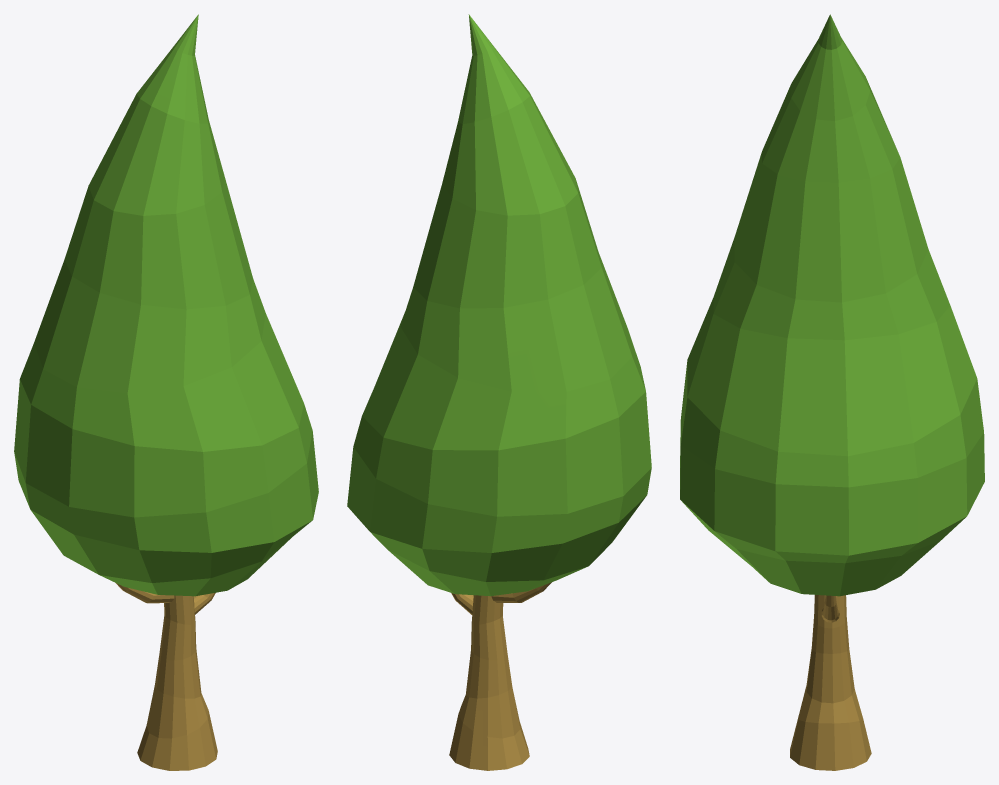
File: tree1.gltf
The picture shows the model from 3 angles, left to right: view 1: azimuth 30°, elevation 25°; view 2: azimuth 150°, elevation 25°; view 3: azimuth 270°, elevation 25°; orthographic projection. The views are drawn at different scales.
Parts seen in each view (by area): view 1: Circle.004, Circle.003; view 2: Circle.004, Circle.003; view 3: Circle.004, Circle.003.
Part boxes in pixels (x1,y1,x2,y2): Circle.004: [14, 14, 318, 596]; Circle.003: [116, 583, 217, 770]; Circle.004: [347, 14, 651, 596]; Circle.003: [449, 582, 551, 770]; Circle.004: [680, 14, 984, 596]; Circle.003: [790, 595, 871, 770].
Size of the model in its own units: 4.42 by 11.71 by 4.32.
